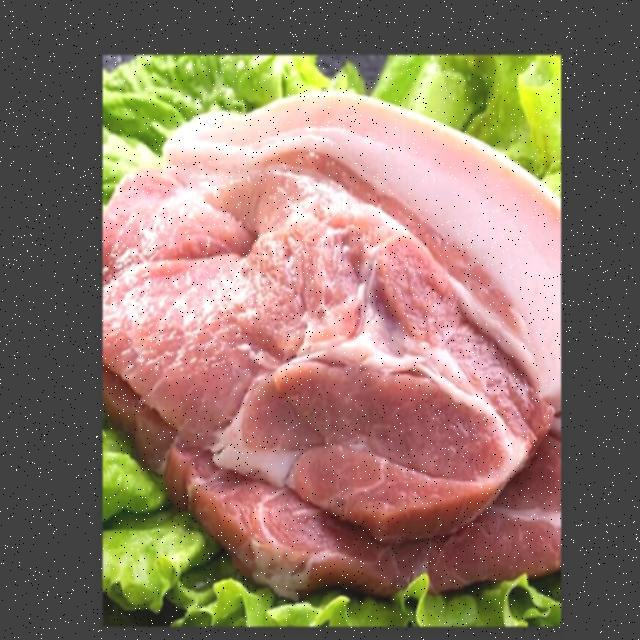pork: (106, 97, 557, 581)
